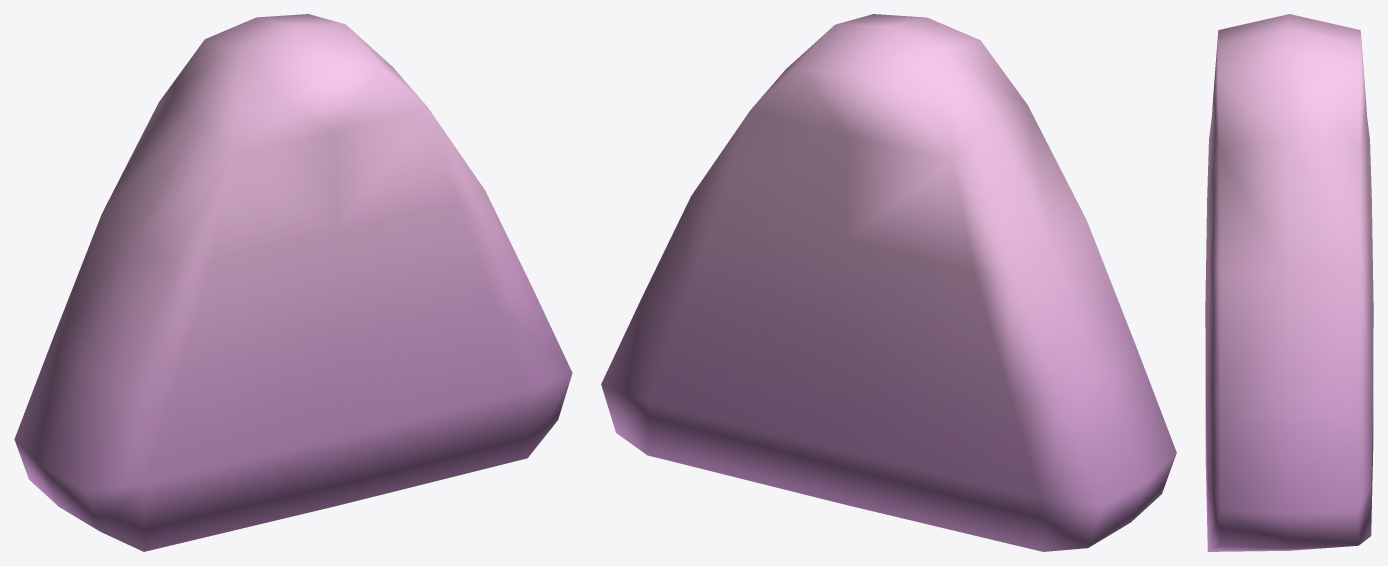
The model's file is Blob_Pink.fbx.
3 renders of one model, left to right at view 1: azimuth 30°, elevation 25°; view 2: azimuth 150°, elevation 25°; view 3: azimuth 270°, elevation 25°, orthographic. The views are drawn at different scales.
Parts seen in each view (by area): view 1: Blob_Pink; view 2: Blob_Pink; view 3: Blob_Pink.
Part boxes in pixels (x1,y1,x2,y2): Blob_Pink: [14, 14, 572, 551]; Blob_Pink: [601, 14, 1176, 551]; Blob_Pink: [1205, 14, 1373, 551].
Size of the model in its own units: 1.29 by 1.1 by 0.3886.
